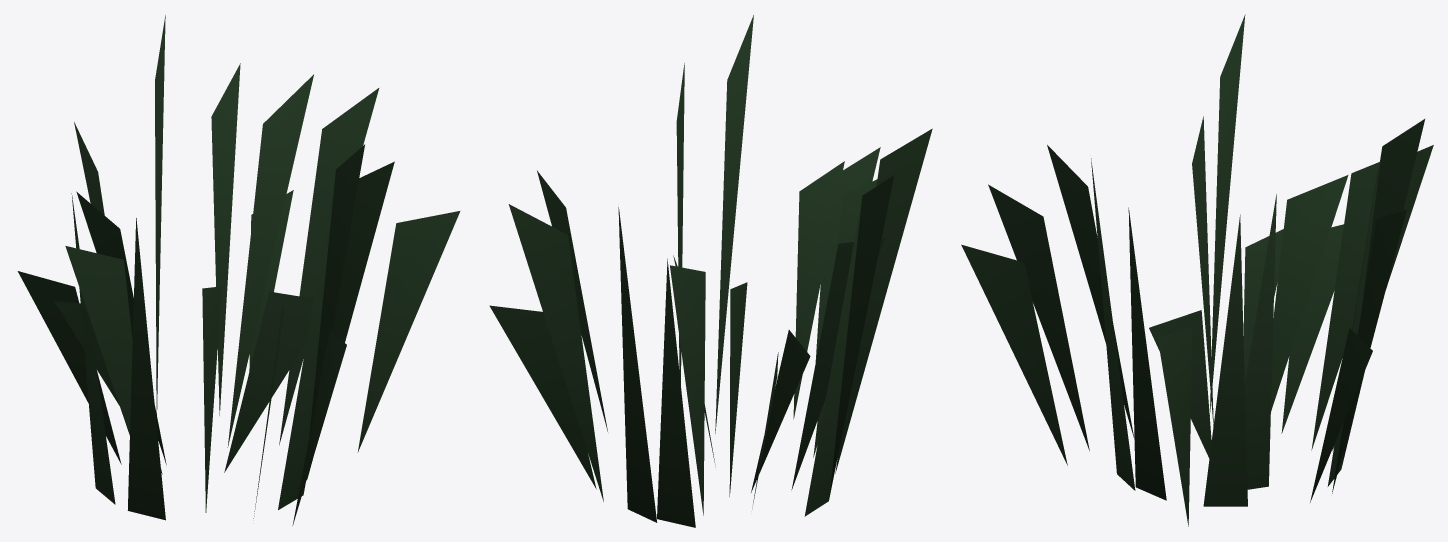
File: prop-grass-lod1.glb
3 renders of one model, left to right at view 1: azimuth 30°, elevation 25°; view 2: azimuth 150°, elevation 25°; view 3: azimuth 270°, elevation 25°, orthographic.
Visible parts, largest first — view 1: prop-grass.007; view 2: prop-grass.007; view 3: prop-grass.007.
Boxes of the visible parts, box(x1,y1,x2,y2) form: prop-grass.007: box(17, 15, 460, 525); prop-grass.007: box(489, 15, 932, 527); prop-grass.007: box(961, 14, 1433, 526).
Size of the model in its own units: 0.4611 by 0.4217 by 0.4669.
